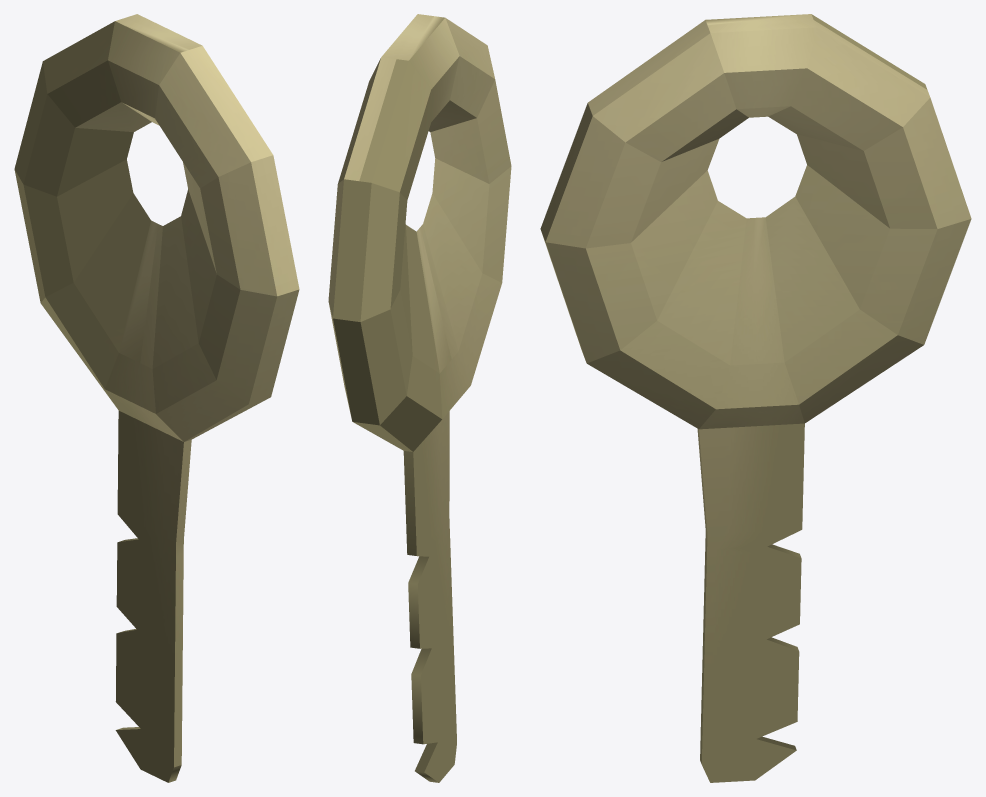
Rendered from keys.fbx.
The picture shows the model from 3 angles, left to right: view 1: azimuth 30°, elevation 25°; view 2: azimuth 150°, elevation 25°; view 3: azimuth 270°, elevation 25°; orthographic projection. The views are drawn at different scales.
Parts seen in each view (by area): view 1: polySurface7; view 2: polySurface7; view 3: polySurface7.
Boxes of the visible parts, x1,y1,x2,y2 form: polySurface7: (14,14,299,782); polySurface7: (328,14,511,782); polySurface7: (540,14,971,782).
Size of the model in its own units: 2.22 by 14.78 by 7.55.
